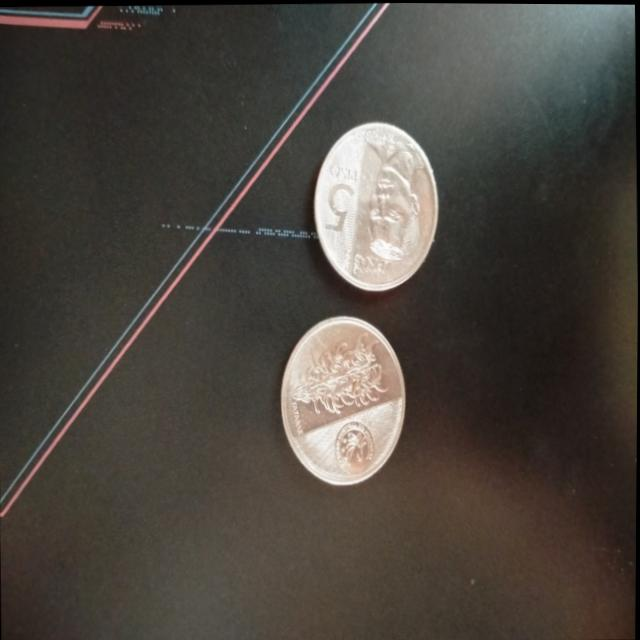5_New_Back: (284, 321, 391, 428)
5_New_Front: (315, 149, 369, 239)
